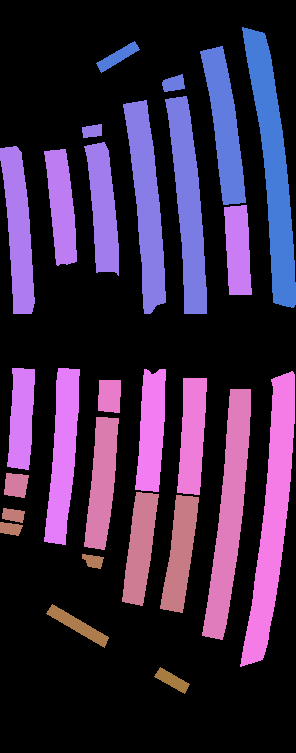parkingspot: (240, 371, 294, 666), (242, 27, 296, 307), (202, 389, 250, 639), (123, 100, 165, 313), (165, 96, 206, 313), (200, 46, 245, 204), (44, 368, 79, 544), (0, 146, 34, 313), (84, 142, 118, 275), (84, 417, 118, 549), (160, 495, 198, 612), (122, 492, 158, 605), (44, 149, 76, 265), (135, 369, 165, 491), (177, 378, 206, 494), (7, 368, 34, 469), (46, 604, 108, 647), (224, 205, 251, 294), (96, 41, 139, 72), (154, 667, 189, 693), (98, 380, 120, 412), (4, 473, 28, 497), (162, 74, 184, 91), (2, 508, 24, 522), (82, 554, 103, 568), (0, 522, 22, 535), (82, 124, 101, 137)
